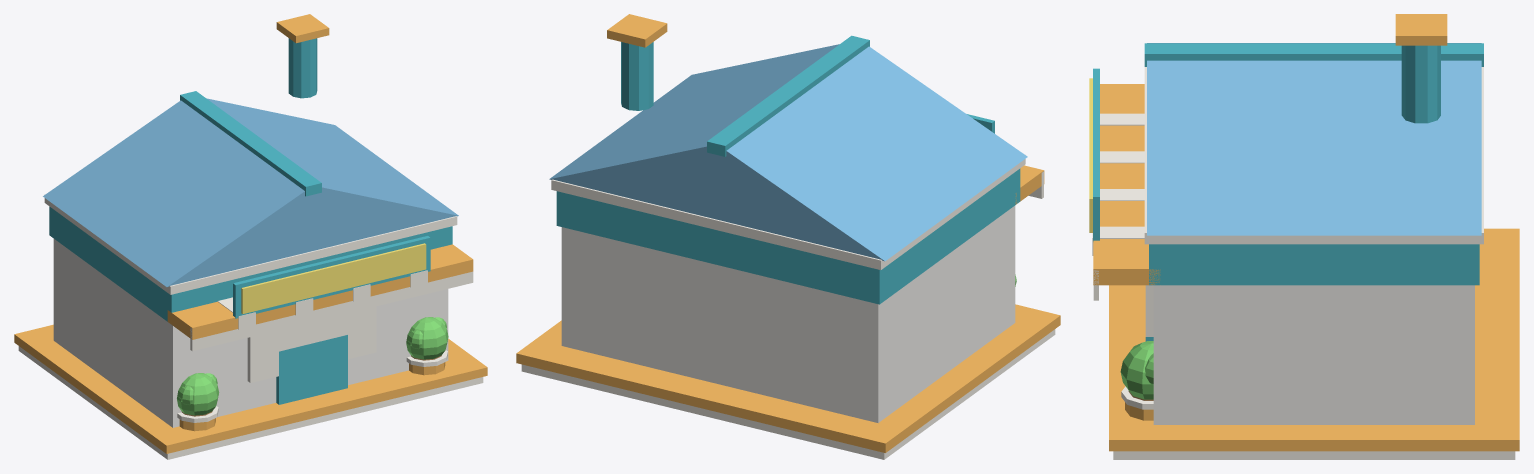
File: bakery.fbx
3 renders of one model, left to right at view 1: azimuth 30°, elevation 25°; view 2: azimuth 150°, elevation 25°; view 3: azimuth 270°, elevation 25°, orthographic. The views are drawn at different scales.
Parts seen in each view (by area): view 1: Roof, Walls, BaseStripe, TealBand, SignBoard, Awning, WinFrame, DoorFrame, Coping, AwningFront, Base, RidgeCap (+5 smaller); view 2: Roof, Walls, BaseStripe, TealBand, Coping, Base, RidgeCap, Chimney, ChimneyCap, Awning; view 3: Roof, Walls, BaseStripe, TealBand, Awning, RidgeCap, Coping, Base, Chimney, ChimneyCap, Bush_2.0_0, SignBoardBorder (+6 smaller).
Part boxes in pixels (x1,y1,x2,y2): Roof: (43,98,458,286); Walls: (53,239,448,427); BaseStripe: (14,324,487,453); TealBand: (49,206,452,321); SignBoard: (241,243,426,313); Awning: (167,244,473,339); WinFrame: (247,306,376,382); DoorFrame: (276,335,347,404); Coping: (44,194,457,294); AwningFront: (190,271,473,351); Base: (18,346,483,459); RidgeCap: (180,91,321,196); Roof: (549,44,1027,261); Walls: (561,205,1015,422); BaseStripe: (516,304,1060,452); TealBand: (556,168,1020,304); Coping: (551,154,1025,269); Base: (521,329,1055,459); RidgeCap: (707,35,869,156); Chimney: (621,42,653,110); ChimneyCap: (607,14,667,47); Awning: (1015,165,1044,204); Roof: (1147,43,1481,235); Walls: (1153,285,1474,424); BaseStripe: (1109,228,1519,451); TealBand: (1149,244,1479,285); Awning: (1093,84,1160,285); RidgeCap: (1144,43,1483,66); Coping: (1144,67,1483,244); Base: (1113,451,1515,459); Chimney: (1401,45,1440,123); ChimneyCap: (1395,14,1447,45); Bush_2.0_0: (1120,341,1153,399); SignBoardBorder: (1093,68,1099,241).
Size of the model in its own units: 560 by 484 by 482.
